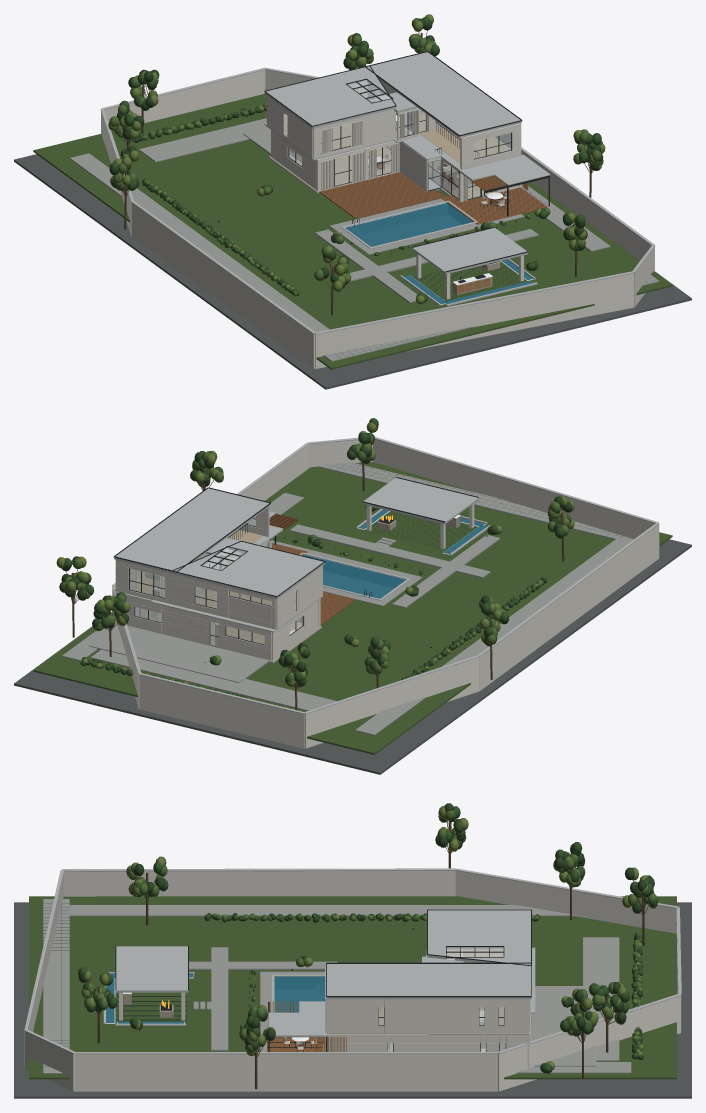
Rendered from modern-villa__HxzXFYd.glb.
3 renders of one model, top to bottom at view 1: azimuth 30°, elevation 25°; view 2: azimuth 150°, elevation 25°; view 3: azimuth 270°, elevation 25°, orthographic. The views are drawn at different scales.
Parts seen in each view (by area): view 1: Continuous lawn and planted ground, Site subsoil, Property enclosing wall 06 | masonry, Property enclosing wall 00 | masonry, Eastern large flat roof, Skewed north flat roof, Stone pedestrian path.001, North pool timber terrace, Property enclosing wall 02 | masonry, Pavilion flat floating roof, Still blue water surface, Property enclosing wall 04 | masonry (+17 smaller); view 2: Continuous lawn and planted ground, Site subsoil, Property enclosing wall 00 | masonry, Eastern large flat roof, Property enclosing wall 06 | masonry, Property enclosing wall 02 | masonry, Property enclosing wall 01 | masonry, Skewed north flat roof, Rear entrance paved terrace, Stone pedestrian path.001, Stone pedestrian path.003, Pavilion flat floating roof (+17 smaller); view 3: Continuous lawn and planted ground, Property enclosing wall 04 | masonry, Site subsoil, Property enclosing wall 00 | masonry, Eastern large flat roof, Property enclosing wall 01 | masonry, Skewed north flat roof, Stone pedestrian path.001, Property enclosing wall 03 | masonry, Stone pedestrian path, Pavilion flat floating roof, Rear entrance paved terrace (+25 smaller).
Part boxes in pixels (x1,y1,x2,y2): Continuous lawn and planted ground: (33, 94, 672, 369); Site subsoil: (14, 154, 691, 389); Property enclosing wall 06 | masonry: (315, 273, 633, 368); Property enclosing wall 00 | masonry: (131, 203, 314, 368); Eastern large flat roof: (371, 52, 521, 137); Skewed north flat roof: (264, 66, 396, 128); Stone pedestrian path.001: (70, 153, 329, 332); North pool timber terrace: (319, 172, 445, 218); Property enclosing wall 02 | masonry: (104, 70, 265, 130); Pavilion flat floating roof: (412, 228, 528, 274); Still blue water surface: (345, 203, 472, 246); Property enclosing wall 04 | masonry: (521, 151, 651, 260); Continuous lawn and planted ground: (33, 461, 672, 754); Site subsoil: (14, 539, 691, 774); Property enclosing wall 00 | masonry: (479, 524, 659, 690); Eastern large flat roof: (114, 488, 270, 573); Property enclosing wall 06 | masonry: (373, 439, 654, 538); Property enclosing wall 02 | masonry: (139, 675, 304, 748); Property enclosing wall 01 | masonry: (304, 657, 479, 748); Skewed north flat roof: (172, 541, 324, 598); Rear entrance paved terrace: (89, 625, 268, 682); Stone pedestrian path.001: (355, 538, 630, 735); Stone pedestrian path.003: (91, 649, 336, 710); Pavilion flat floating roof: (362, 477, 478, 524); Continuous lawn and planted ground: (29, 896, 676, 1079); Property enclosing wall 04 | masonry: (74, 1054, 498, 1091); Site subsoil: (14, 902, 691, 1098); Property enclosing wall 00 | masonry: (63, 871, 455, 896); Eastern large flat roof: (326, 964, 531, 999); Property enclosing wall 01 | masonry: (455, 871, 676, 933); Skewed north flat roof: (427, 910, 530, 965); Stone pedestrian path.001: (68, 905, 575, 916); Property enclosing wall 03 | masonry: (498, 996, 680, 1091); Stone pedestrian path: (43, 899, 69, 1073); Pavilion flat floating roof: (115, 946, 188, 992); Rear entrance paved terrace: (531, 986, 596, 1066).
Bounding box in the file's own units: 42.02 × 9.51 × 56.
